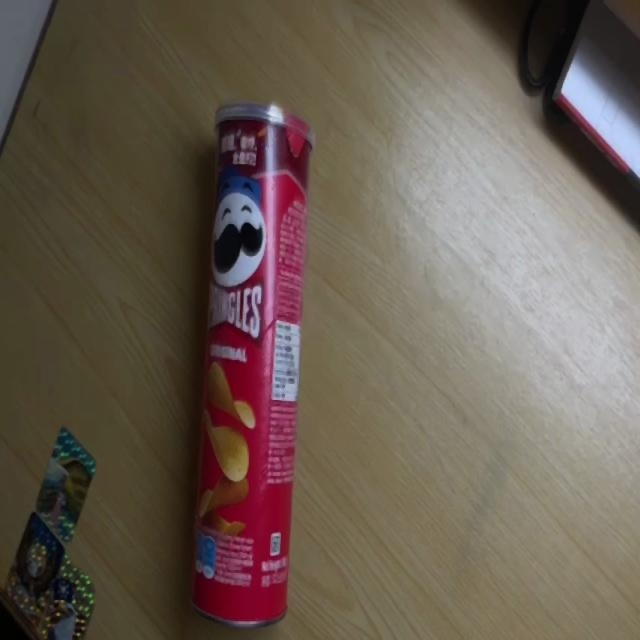Pringles: (189, 104, 315, 632)
